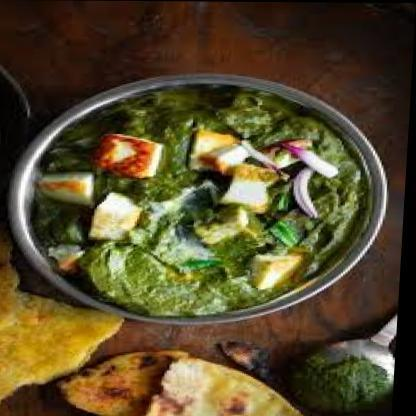palak_paneer: (30, 83, 372, 317)
